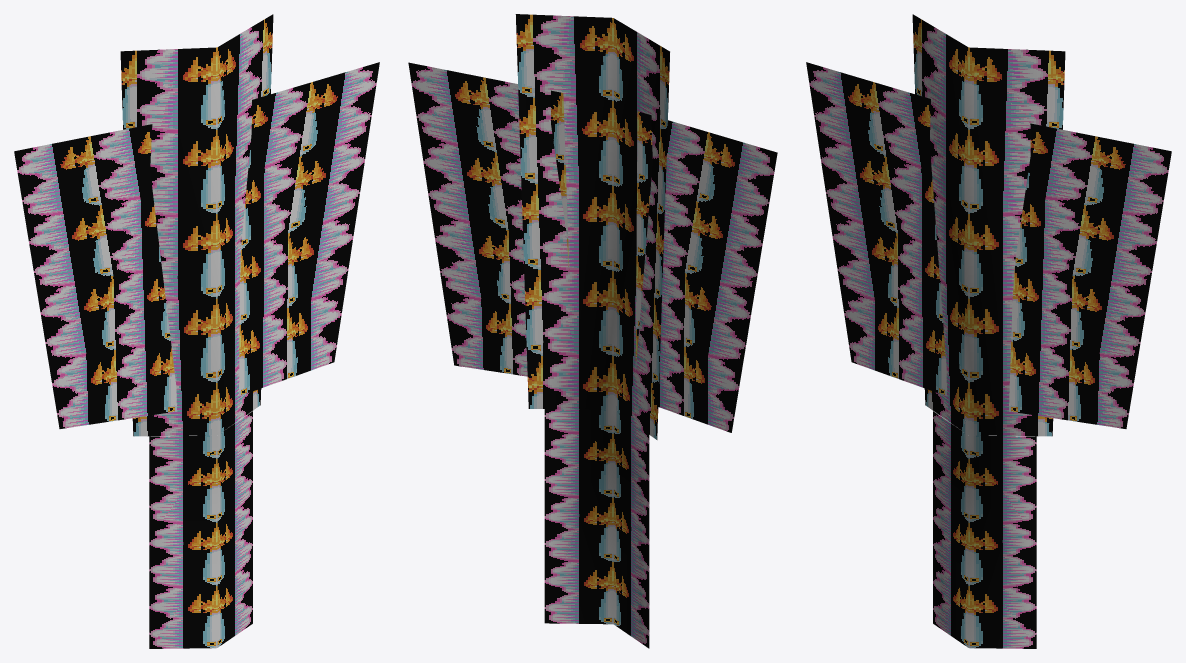
The model's file is 5045musi55_e.gltf.
The picture shows the model from 3 angles, left to right: view 1: azimuth 30°, elevation 25°; view 2: azimuth 150°, elevation 25°; view 3: azimuth 330°, elevation 25°; orthographic projection.
Visible parts, largest first — view 1: 5045musi55_e; view 2: 5045musi55_e; view 3: 5045musi55_e.
Part boxes in pixels (x1,y1,x2,y2): 5045musi55_e: (14, 14, 379, 648); 5045musi55_e: (408, 14, 777, 648); 5045musi55_e: (806, 14, 1171, 648).
Size of the model in its own units: 0.2651 by 0.416 by 0.0254.
Materials: 1 (1 with a texture image).
